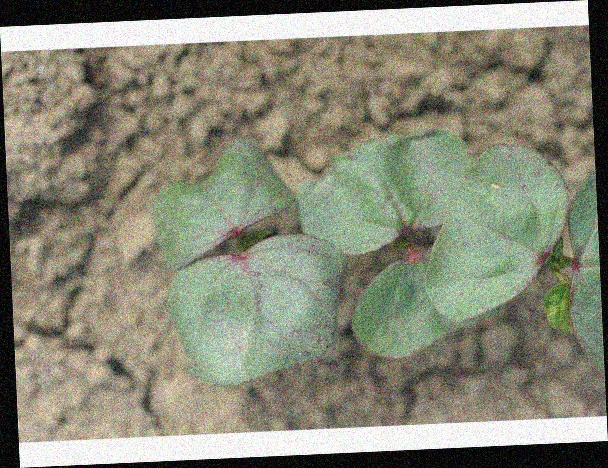cotton: (155, 129, 597, 380)
